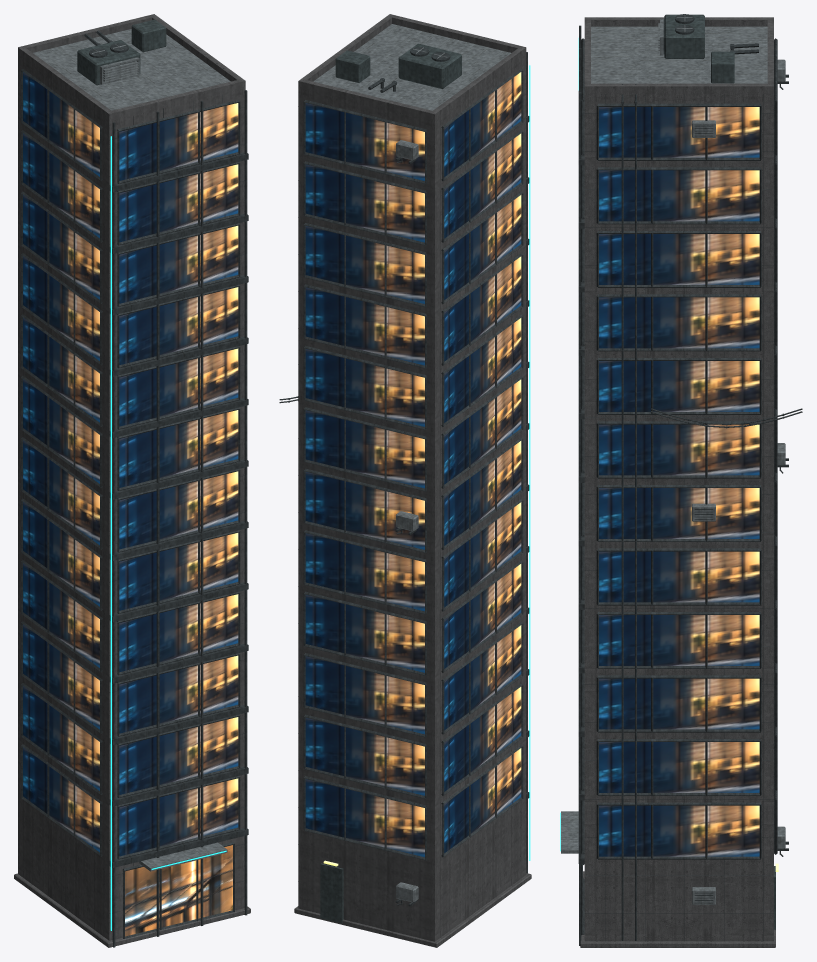
The model's file is slender-glass.glb.
3 renders of one model, left to right at view 1: azimuth 30°, elevation 25°; view 2: azimuth 150°, elevation 25°; view 3: azimuth 270°, elevation 25°, orthographic. The views are drawn at different scales.
Parts seen in each view (by area): view 1: CBOK1_GlassTower_ApprovedMedia, CBOK1_GlassTower_BlackFrame, CBOK1_GlassTower_Concrete, CBOK1_GlassTower_RoofMetal, CBOK1_GlassTower_ServiceMetal, CBOK1_GlassTower_Neon; view 2: CBOK1_GlassTower_ApprovedMedia, CBOK1_GlassTower_Concrete, CBOK1_GlassTower_BlackFrame, CBOK1_GlassTower_RoofMetal, CBOK1_GlassTower_ServiceMetal, CBOK1_GlassTower_Neon; view 3: CBOK1_GlassTower_ApprovedMedia, CBOK1_GlassTower_Concrete, CBOK1_GlassTower_BlackFrame, CBOK1_GlassTower_RoofMetal, CBOK1_GlassTower_ServiceMetal.
Boxes of the visible parts, x1=… form: CBOK1_GlassTower_ApprovedMedia: x1=23, y1=72, x2=238, y2=936; CBOK1_GlassTower_BlackFrame: x1=21, y1=30, x2=248, y2=947; CBOK1_GlassTower_Concrete: x1=14, y1=14, x2=250, y2=947; CBOK1_GlassTower_RoofMetal: x1=33, y1=29, x2=230, y2=871; CBOK1_GlassTower_ServiceMetal: x1=77, y1=19, x2=166, y2=85; CBOK1_GlassTower_Neon: x1=110, y1=136, x2=226, y2=930; CBOK1_GlassTower_ApprovedMedia: x1=305, y1=72, x2=521, y2=857; CBOK1_GlassTower_Concrete: x1=294, y1=14, x2=531, y2=947; CBOK1_GlassTower_BlackFrame: x1=279, y1=27, x2=529, y2=906; CBOK1_GlassTower_RoofMetal: x1=313, y1=24, x2=510, y2=902; CBOK1_GlassTower_ServiceMetal: x1=320, y1=43, x2=461, y2=923; CBOK1_GlassTower_Neon: x1=529, y1=65, x2=530, y2=860; CBOK1_GlassTower_ApprovedMedia: x1=599, y1=107, x2=759, y2=856; CBOK1_GlassTower_Concrete: x1=580, y1=17, x2=775, y2=947; CBOK1_GlassTower_BlackFrame: x1=578, y1=14, x2=802, y2=945; CBOK1_GlassTower_RoofMetal: x1=561, y1=14, x2=785, y2=904; CBOK1_GlassTower_ServiceMetal: x1=664, y1=14, x2=775, y2=929.
Size of the model in its own units: 6.68 by 36.91 by 9.22.
7 materials, 5 textured.
